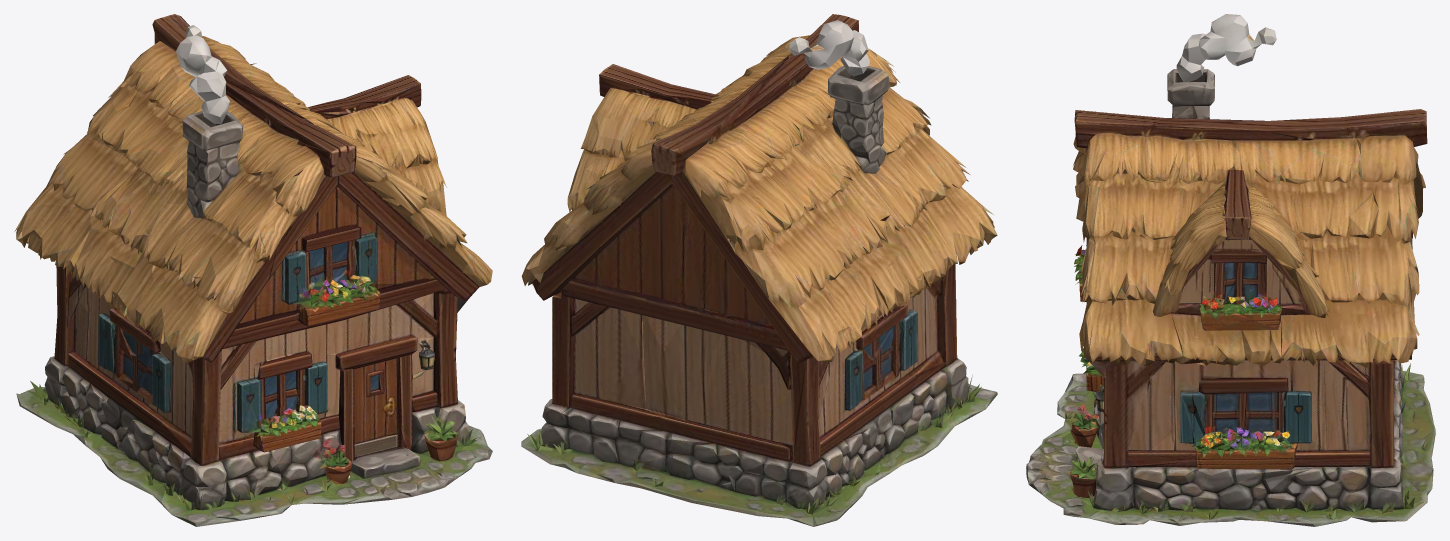
Rendered from camp_ferme.glb.
The picture shows the model from 3 angles, left to right: view 1: azimuth 30°, elevation 25°; view 2: azimuth 150°, elevation 25°; view 3: azimuth 270°, elevation 25°; orthographic projection. The views are drawn at different scales.
Bounding box in the file's own units: 1.58 × 1.9 × 1.76.
Materials: 1 (1 with a texture image).
